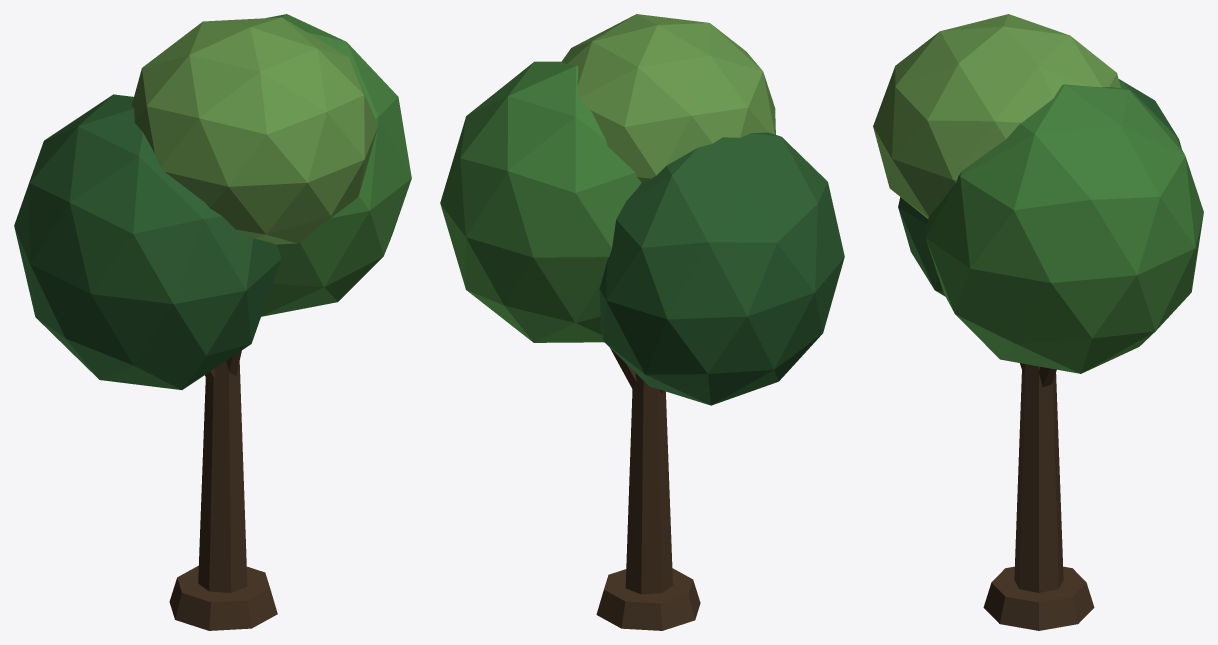
The model's file is tree.glb.
The picture shows the model from 3 angles, left to right: view 1: azimuth 30°, elevation 25°; view 2: azimuth 150°, elevation 25°; view 3: azimuth 270°, elevation 25°; orthographic projection. The views are drawn at different scales.
Visible parts, largest first — view 1: tree; view 2: tree; view 3: tree.
Part boxes in pixels (x1,y1,x2,y2): tree: (14, 14, 411, 630); tree: (440, 14, 844, 630); tree: (873, 14, 1203, 630).
Size of the model in its own units: 1.06 by 1.63 by 0.8354.
